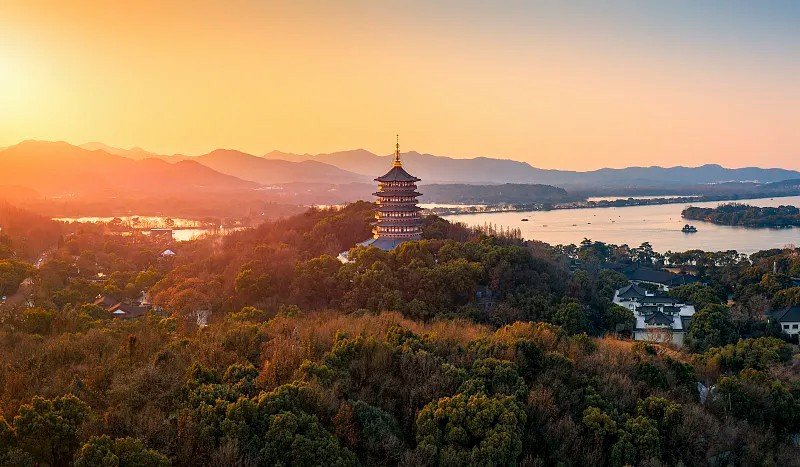Leifeng: (352, 133, 433, 251)
